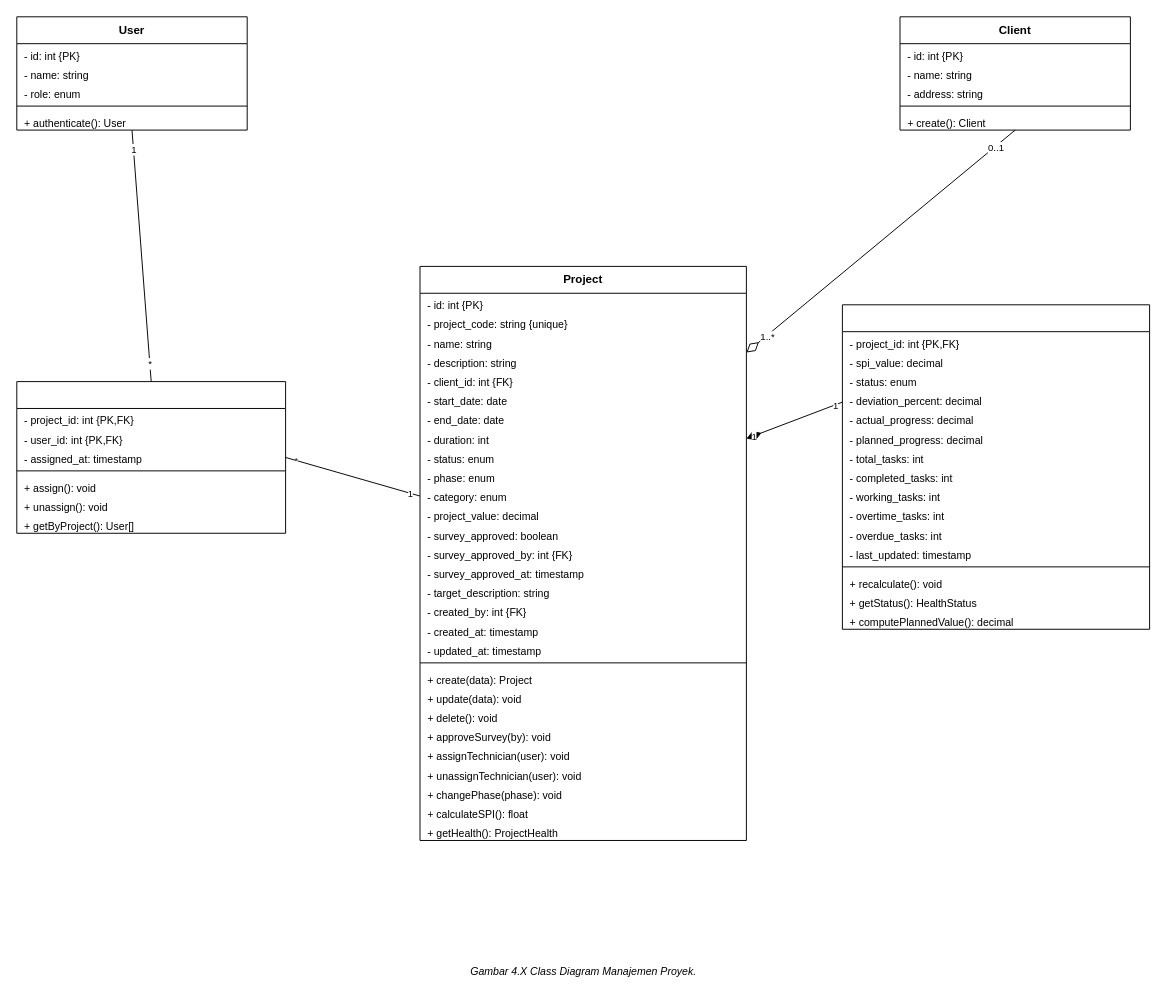
Image size: 1166x1003. Some labels were removed from this diagram. The shapes that lost their labels are listed below. From the top down, each one's box as (x1, y1, x2, y2) in pixels, then its label:
(16, 381, 286, 533): ProjectAssignment
(841, 304, 1150, 629): ProjectHealth
